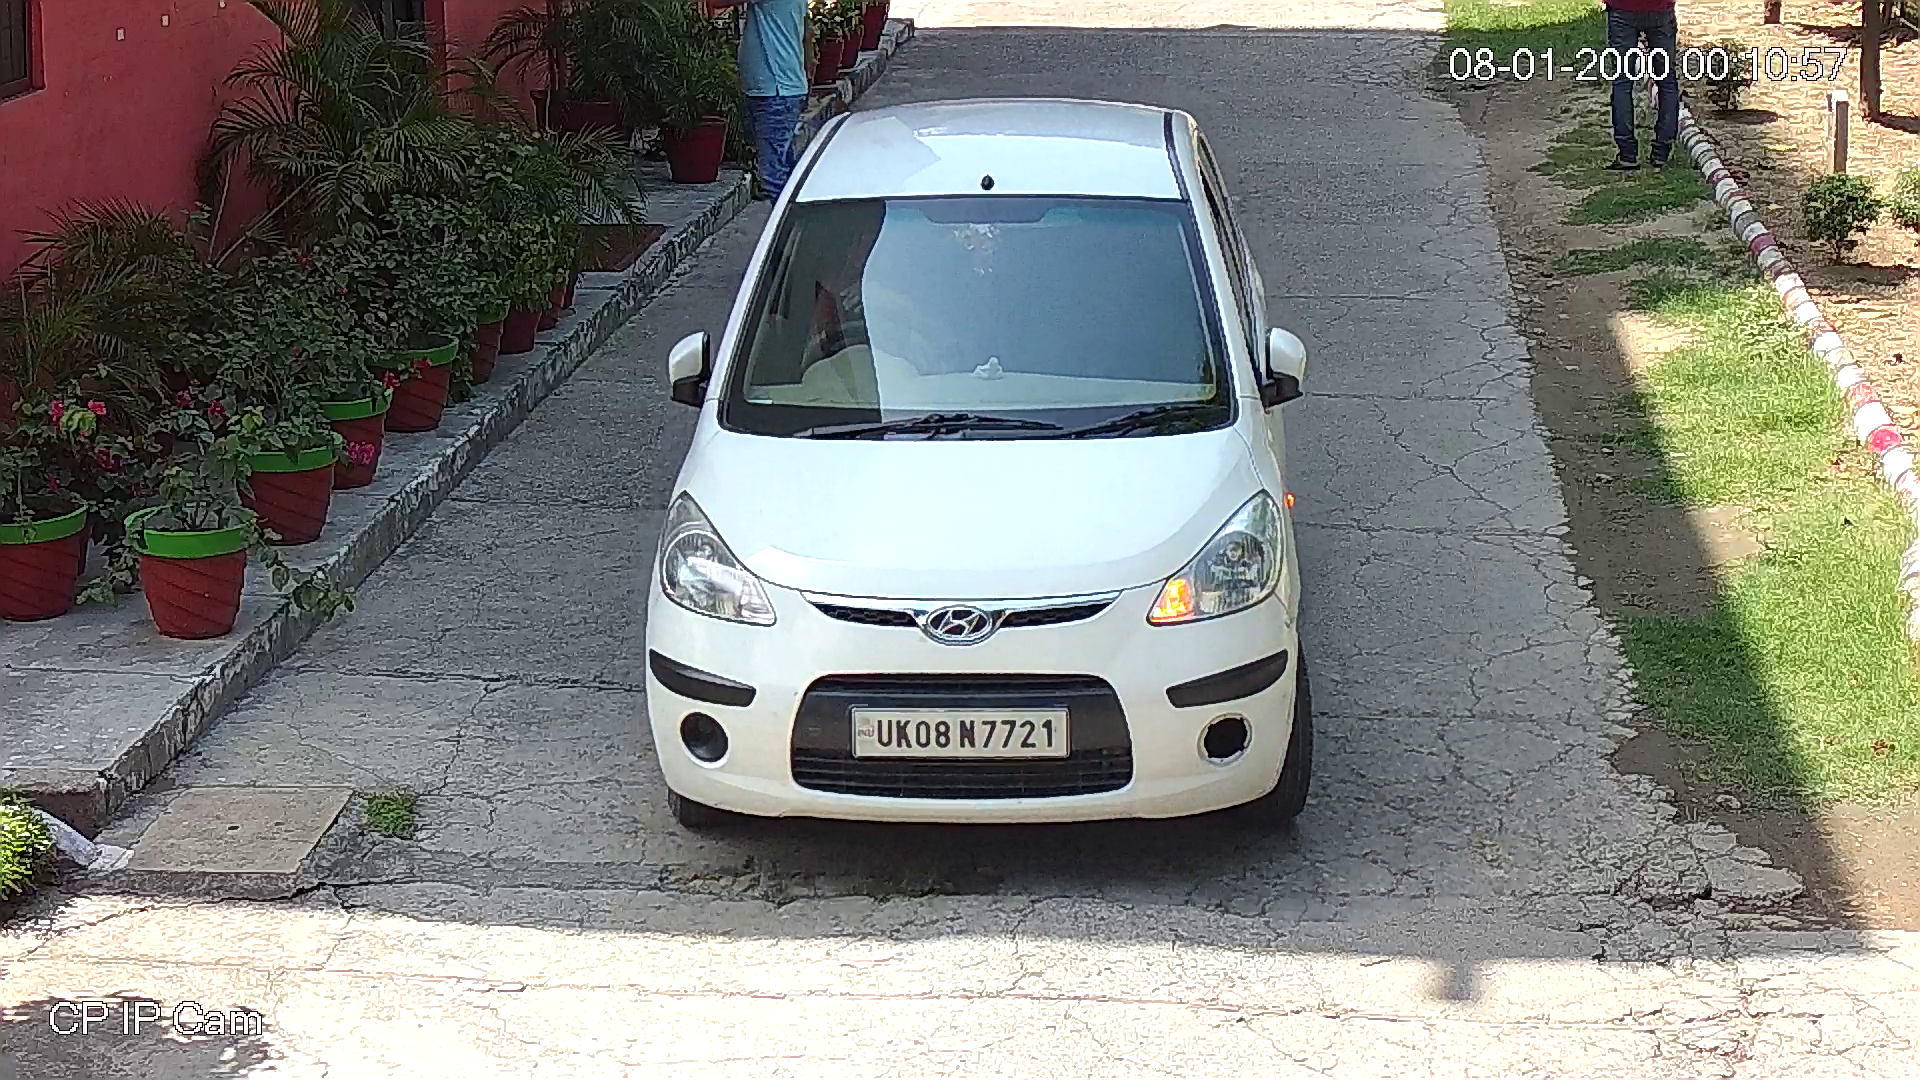plate: (849, 703, 1071, 763)
